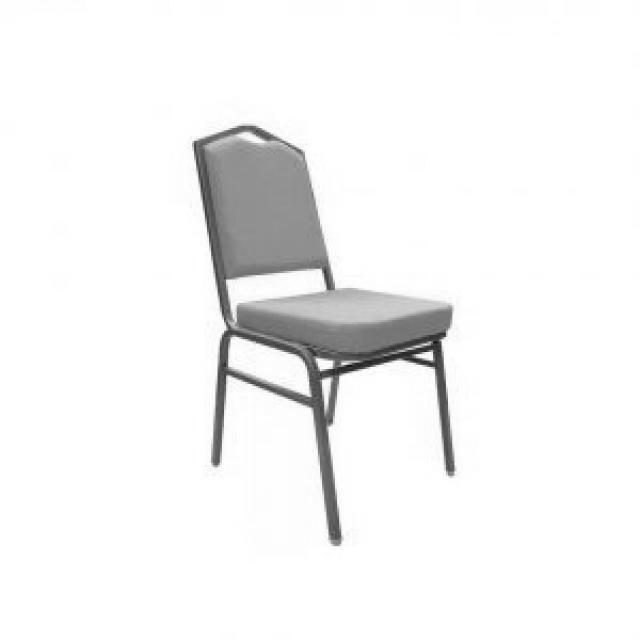chair: (190, 121, 468, 548)
